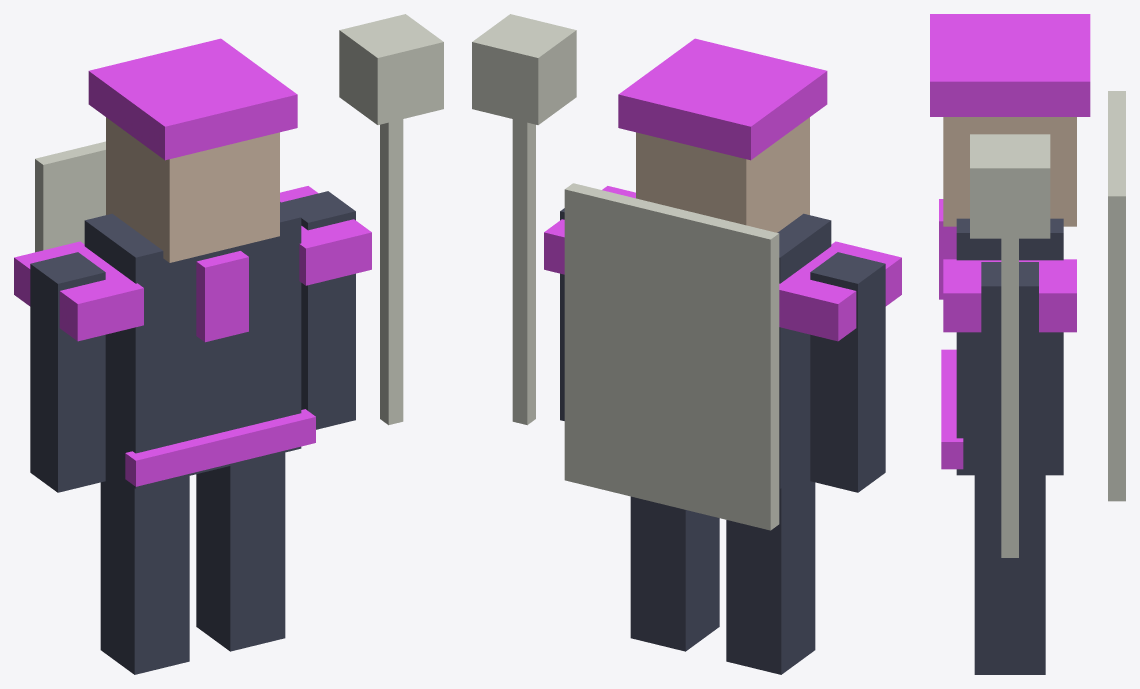
Rendered from 09_sable_cragwarden_navigator_under_toll.glb.
The picture shows the model from 3 angles, left to right: view 1: azimuth 30°, elevation 25°; view 2: azimuth 150°, elevation 25°; view 3: azimuth 270°, elevation 25°; orthographic projection. The views are drawn at different scales.
Parts seen in each view (by area): view 1: Sable Cragwarden, Navigator under Toll; view 2: Sable Cragwarden, Navigator under Toll; view 3: Sable Cragwarden, Navigator under Toll.
Boxes of the visible parts, x1=… form: Sable Cragwarden, Navigator under Toll: x1=14, y1=14, x2=443, y2=674; Sable Cragwarden, Navigator under Toll: x1=472, y1=14, x2=901, y2=674; Sable Cragwarden, Navigator under Toll: x1=930, y1=14, x2=1125, y2=674.
Size of the model in its own units: 1.11 by 1.56 by 0.4714.
